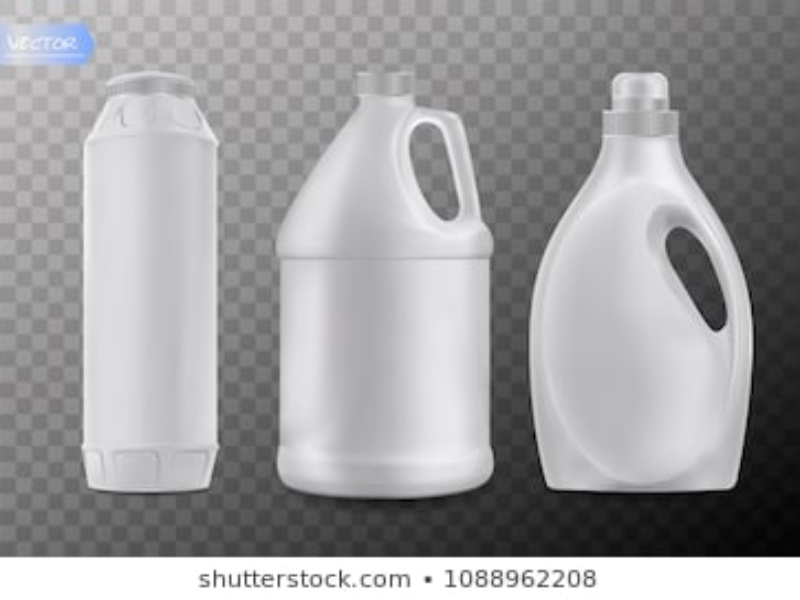detergent-bottle: (527, 70, 759, 494), (273, 70, 496, 499), (78, 70, 219, 495)
